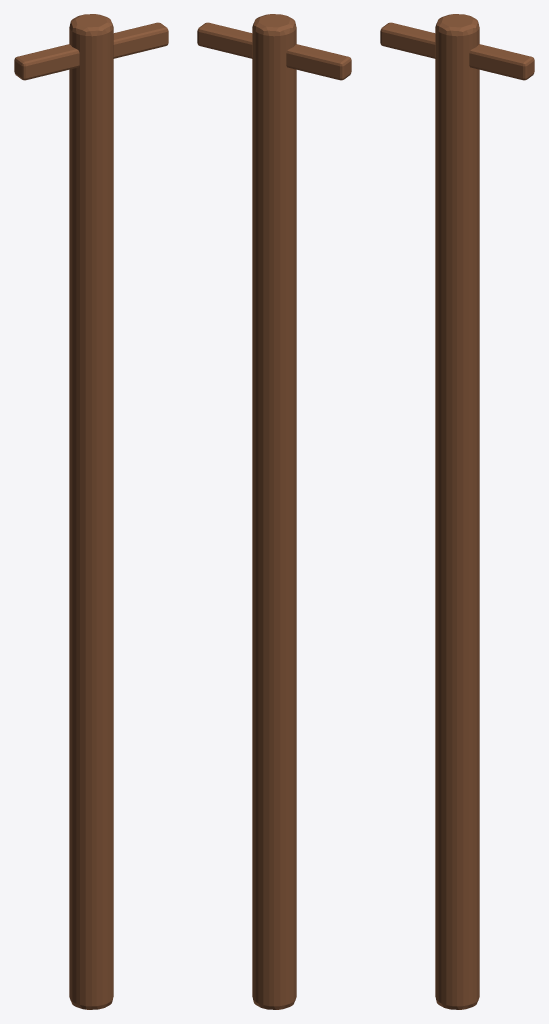
File: string_pole.glb
3 views of the same model, side by side, from view 1: azimuth 30°, elevation 25°; view 2: azimuth 150°, elevation 25°; view 3: azimuth 330°, elevation 25° (orthographic).
Visible parts, largest first — view 1: string_pole; view 2: string_pole; view 3: string_pole.
Part boxes in pixels (bbox=[...]): string_pole: bbox=[14, 14, 168, 1009]; string_pole: bbox=[197, 14, 351, 1009]; string_pole: bbox=[380, 14, 534, 1009].
Bounding box in the file's own units: 0.5 × 3.2 × 0.1311.
